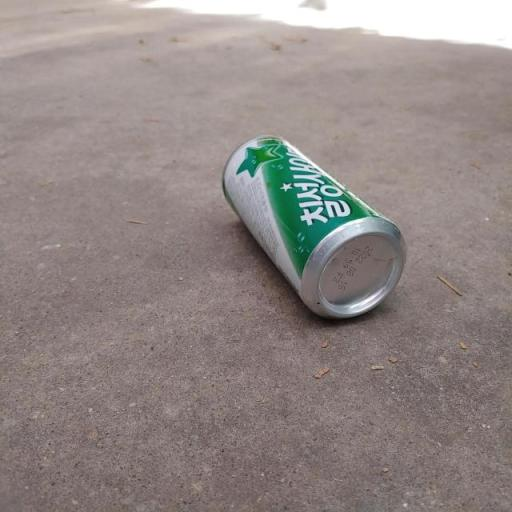metal: (211, 112, 426, 331)
